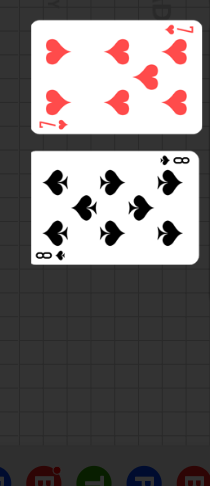10S: (35, 248, 68, 261)
7H: (164, 22, 196, 36)
